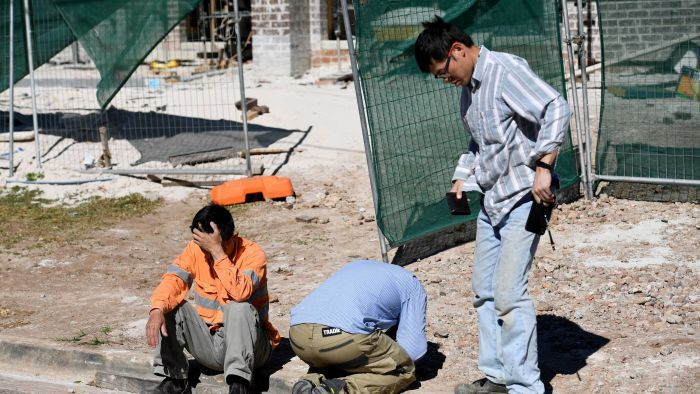noepi: (414, 20, 571, 394), (145, 202, 276, 394)
